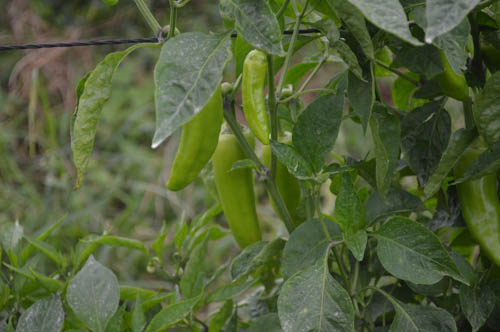ChiliPepper: (164, 74, 220, 194), (212, 127, 259, 248), (458, 143, 497, 260), (239, 48, 274, 149), (258, 144, 298, 224)
